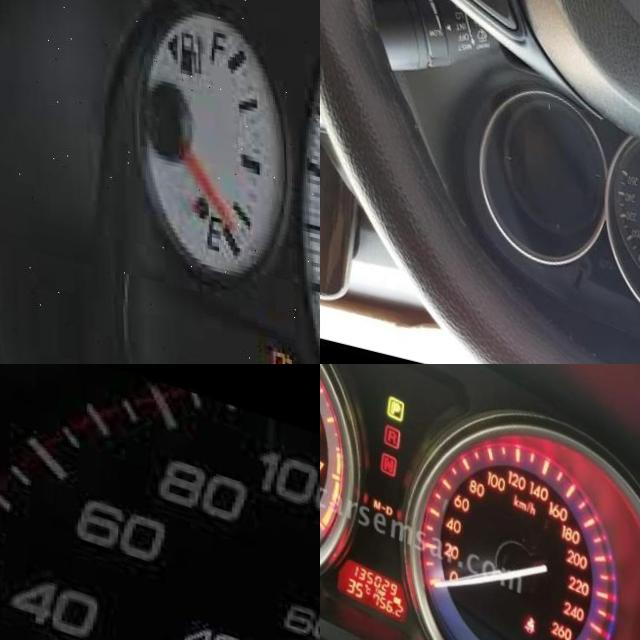Seat Belt: (521, 592, 533, 612)
